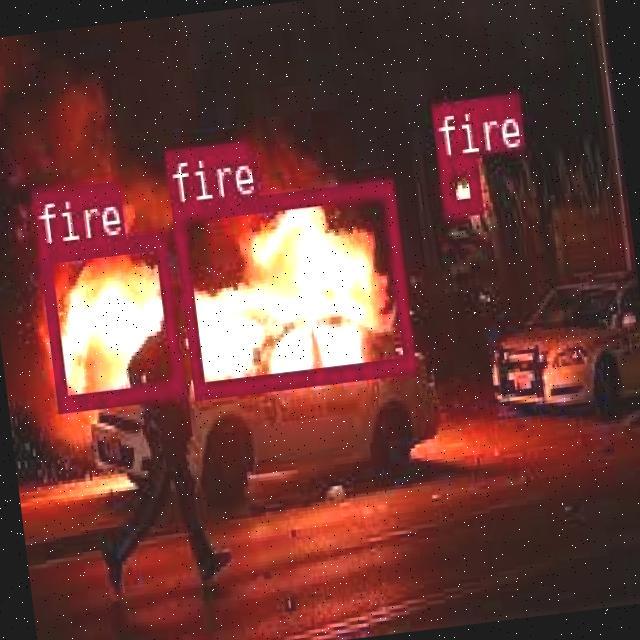fire: (170, 176, 412, 394), (36, 230, 181, 408), (436, 154, 480, 214)
